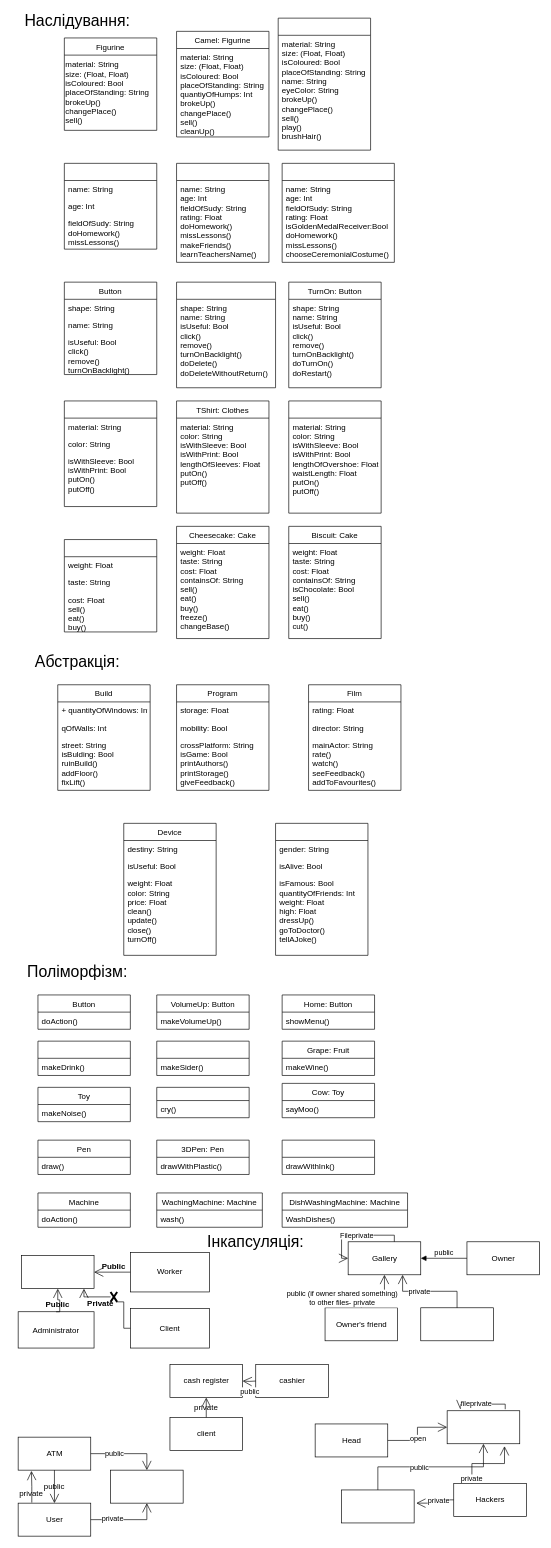
The diagram is 551 pixels wide and 1548 high, and some of its shapes have lost their labels. The shapes that lost their labels are listed below. From the top down, each one's box as (x1, y1, x2, y2) in pixels, then its label:
(278, 17, 371, 150): Doll: Figurine
(64, 163, 157, 249): Student
(176, 163, 269, 262): Freshman: Student
(281, 163, 394, 262): Graduate: Student
(176, 281, 276, 388): Delete: Button
(64, 400, 157, 507): Clothes
(288, 400, 381, 513): Trousers: Clothes
(64, 539, 157, 632): Cake
(275, 823, 368, 955): Human
(37, 1040, 130, 1075): Fruit
(156, 1040, 249, 1075): Apple: Fruit
(156, 1087, 249, 1118): Doll: Toy
(281, 1139, 375, 1174): InkPen: Pen
(21, 1255, 94, 1289): Database
(420, 1307, 493, 1341): Someone else
(446, 1410, 520, 1444): Pentagon
(110, 1469, 183, 1503): Server
(341, 1489, 414, 1523): Workers
